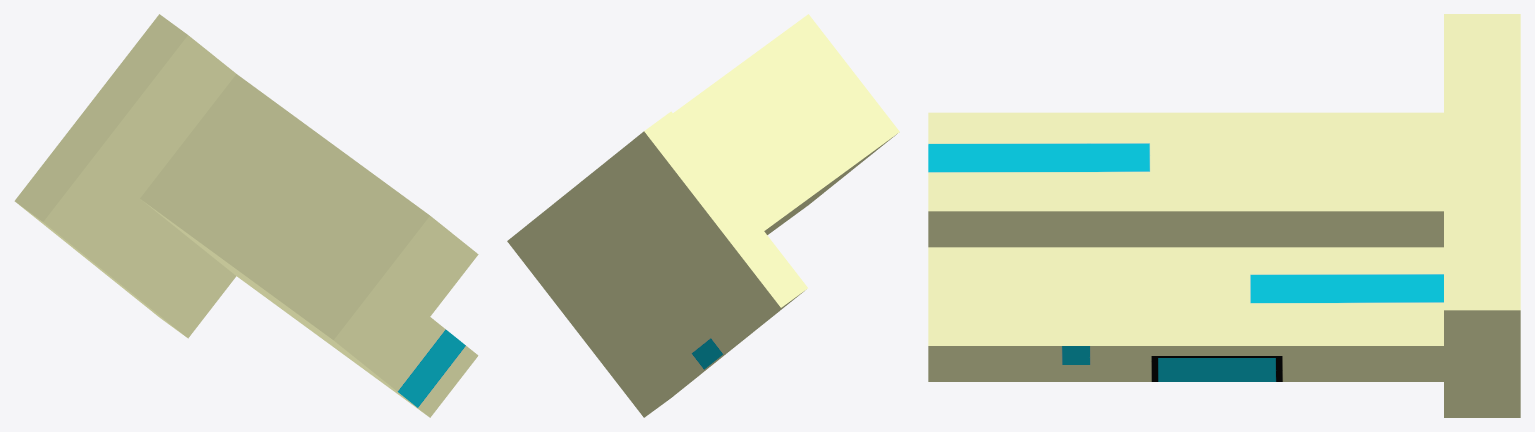
The model's file is wall-corner.obj.
3 views of the same model, side by side, from view 1: azimuth 30°, elevation 25°; view 2: azimuth 150°, elevation 25°; view 3: azimuth 270°, elevation 25° (orthographic). The views are drawn at different scales.
Parts seen in each view (by area): view 1: Cube_Cube.003_Material.001; view 2: Cube_Cube.003_Material.001; view 3: Cube_Cube.003_Material.001.
Boxes of the visible parts, bbox=[...] form: Cube_Cube.003_Material.001: bbox=[14, 14, 478, 417]; Cube_Cube.003_Material.001: bbox=[507, 14, 899, 417]; Cube_Cube.003_Material.001: bbox=[928, 14, 1520, 417].
Bounding box in the file's own units: 1.41 × 1.41 × 1.88.
1 material, 1 textured.
